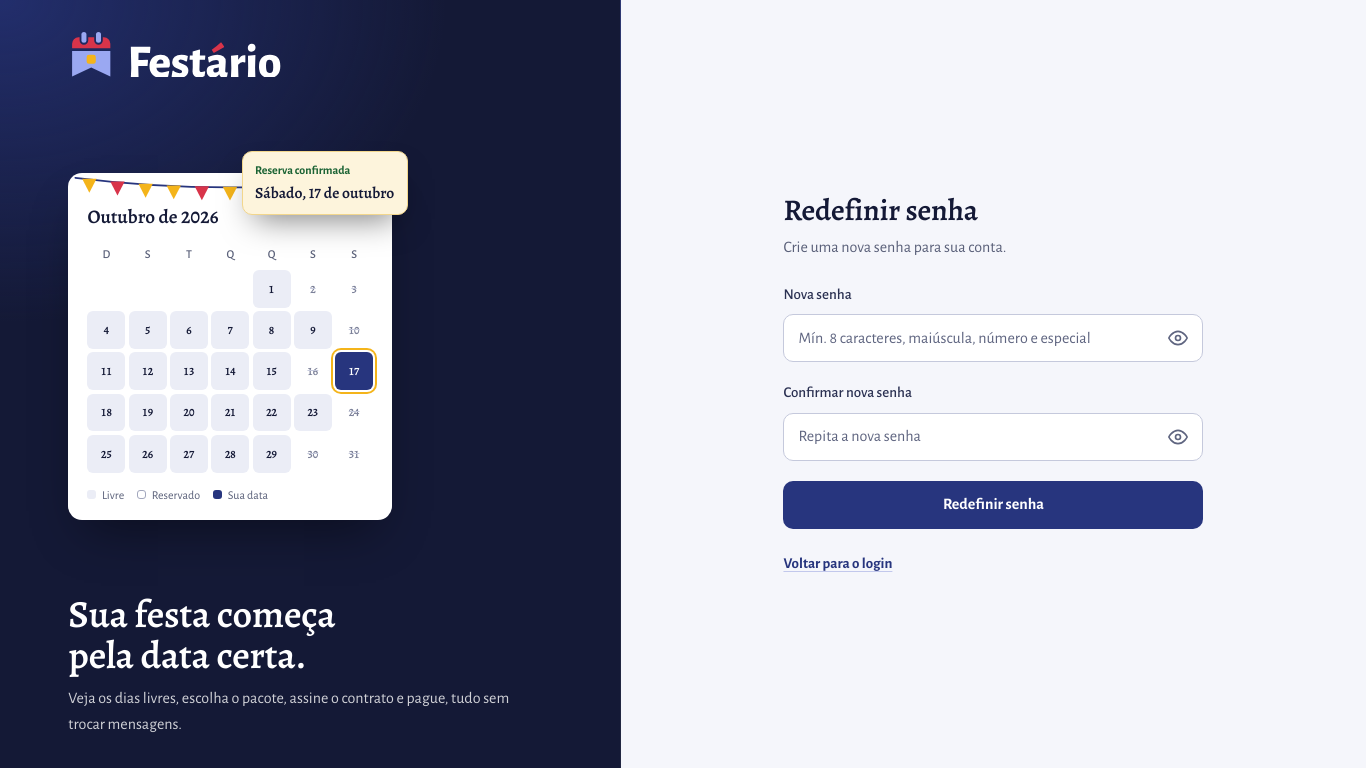
Test: ResetPassword page › shows error toast when passwords do not match
Type "Senha@123" into the password field with placeholder "Mín. 8 caracteres, maiúscula, número e especial".
click(979, 338); type("Senha@123")  # box [798,315,1160,361]
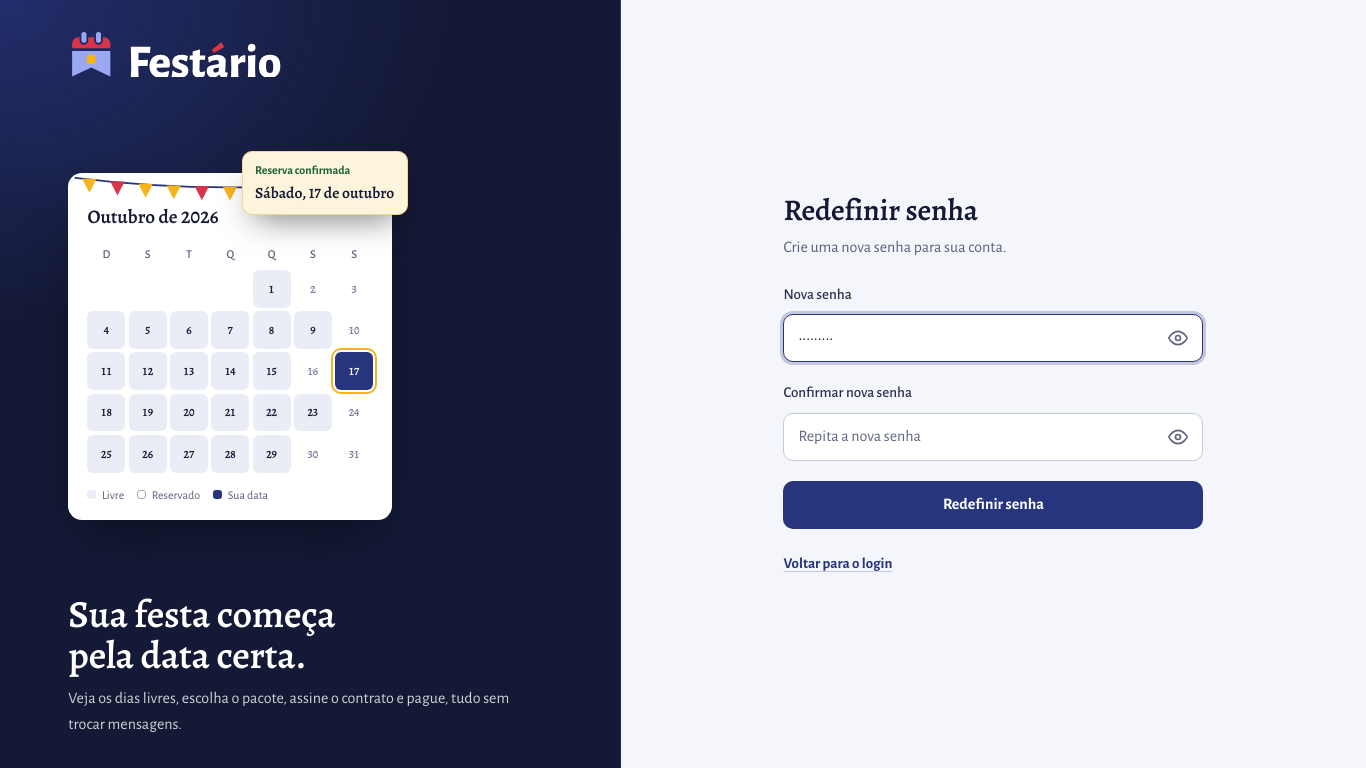
Type "Diferente@456" into the password field with placeholder "Repita a nova senha".
click(979, 437); type("Diferente@456")  # box [798,414,1160,460]
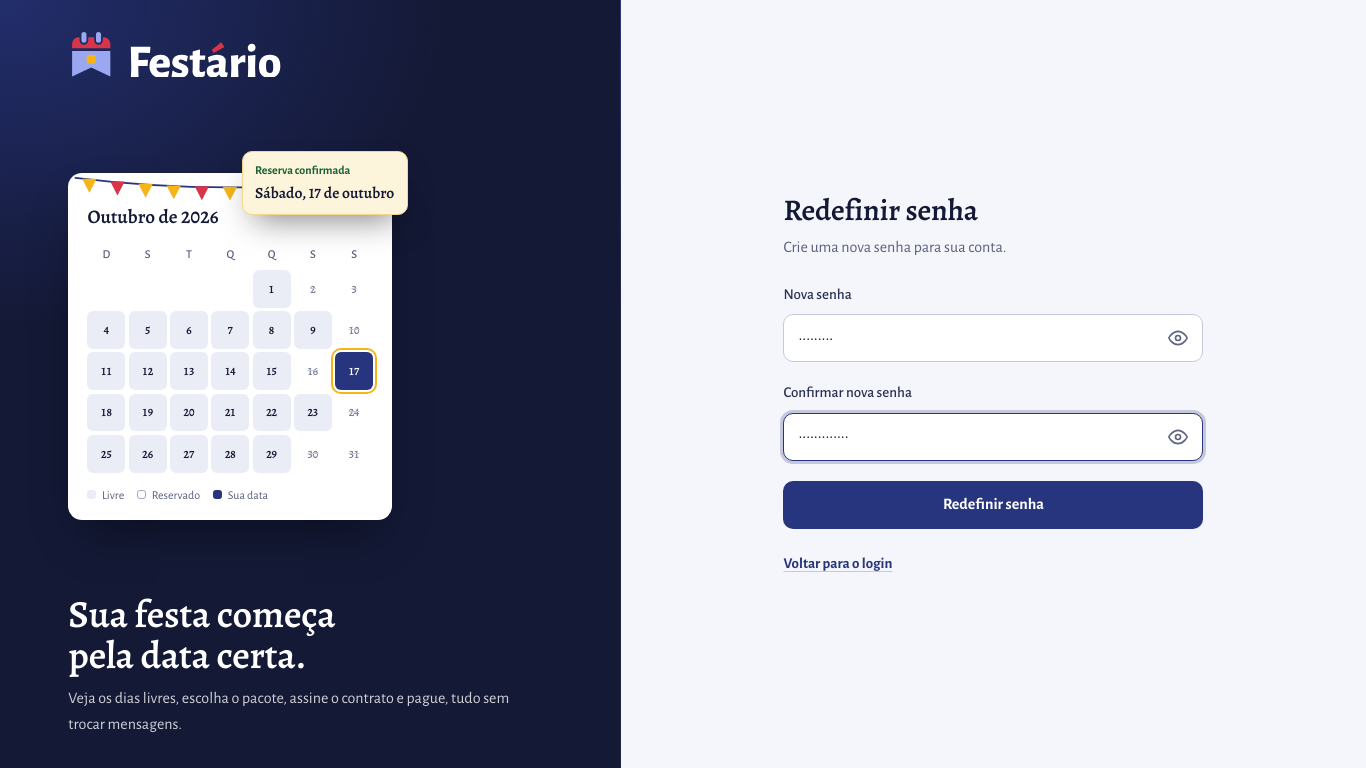
Click the button "Redefinir senha".
click(993, 505)  # box [783,481,1203,529]
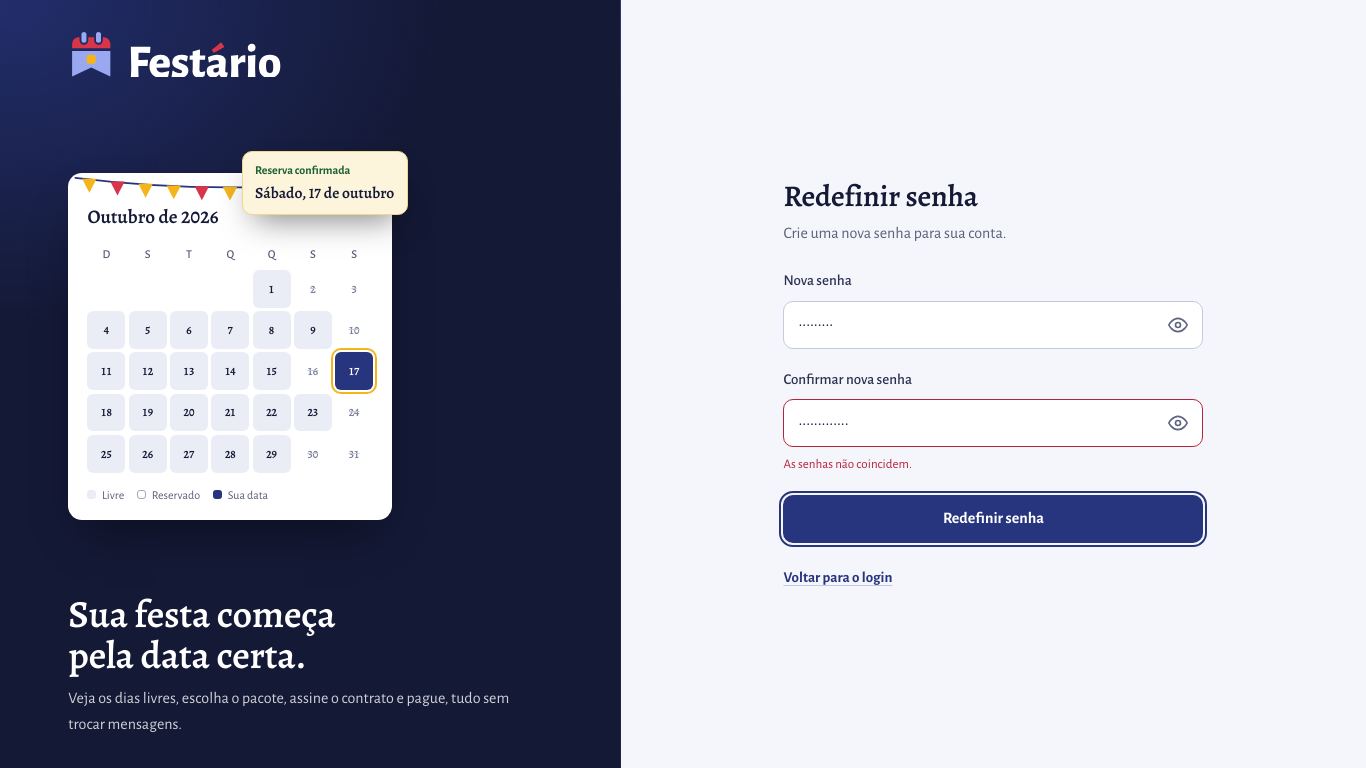
Now the text "As senhas não coincidem." is shown, box [783,458,912,471]
